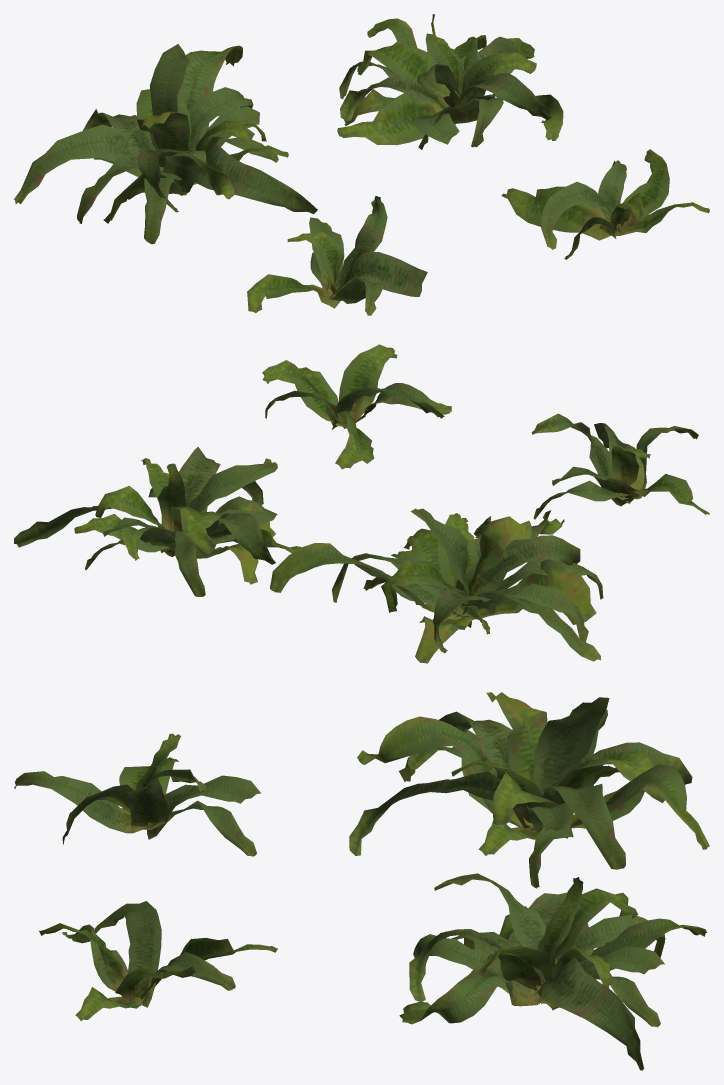
Rendered from fern.glb.
3 views of the same model, one above another, from view 1: azimuth 30°, elevation 25°; view 2: azimuth 150°, elevation 25°; view 3: azimuth 270°, elevation 25° (orthographic). The views are drawn at different scales.
Parts seen in each view (by area): view 1: fern_02_b; view 2: fern_02_b; view 3: fern_02_b.
Part boxes in pixels (<box>): fern_02_b: <box>14,14,709,315</box>; fern_02_b: <box>14,344,709,663</box>; fern_02_b: <box>14,692,709,1070</box>.
Bounding box in the file's own units: 1.97 × 0.4277 × 1.72.
Materials: 1 (1 with a texture image).
